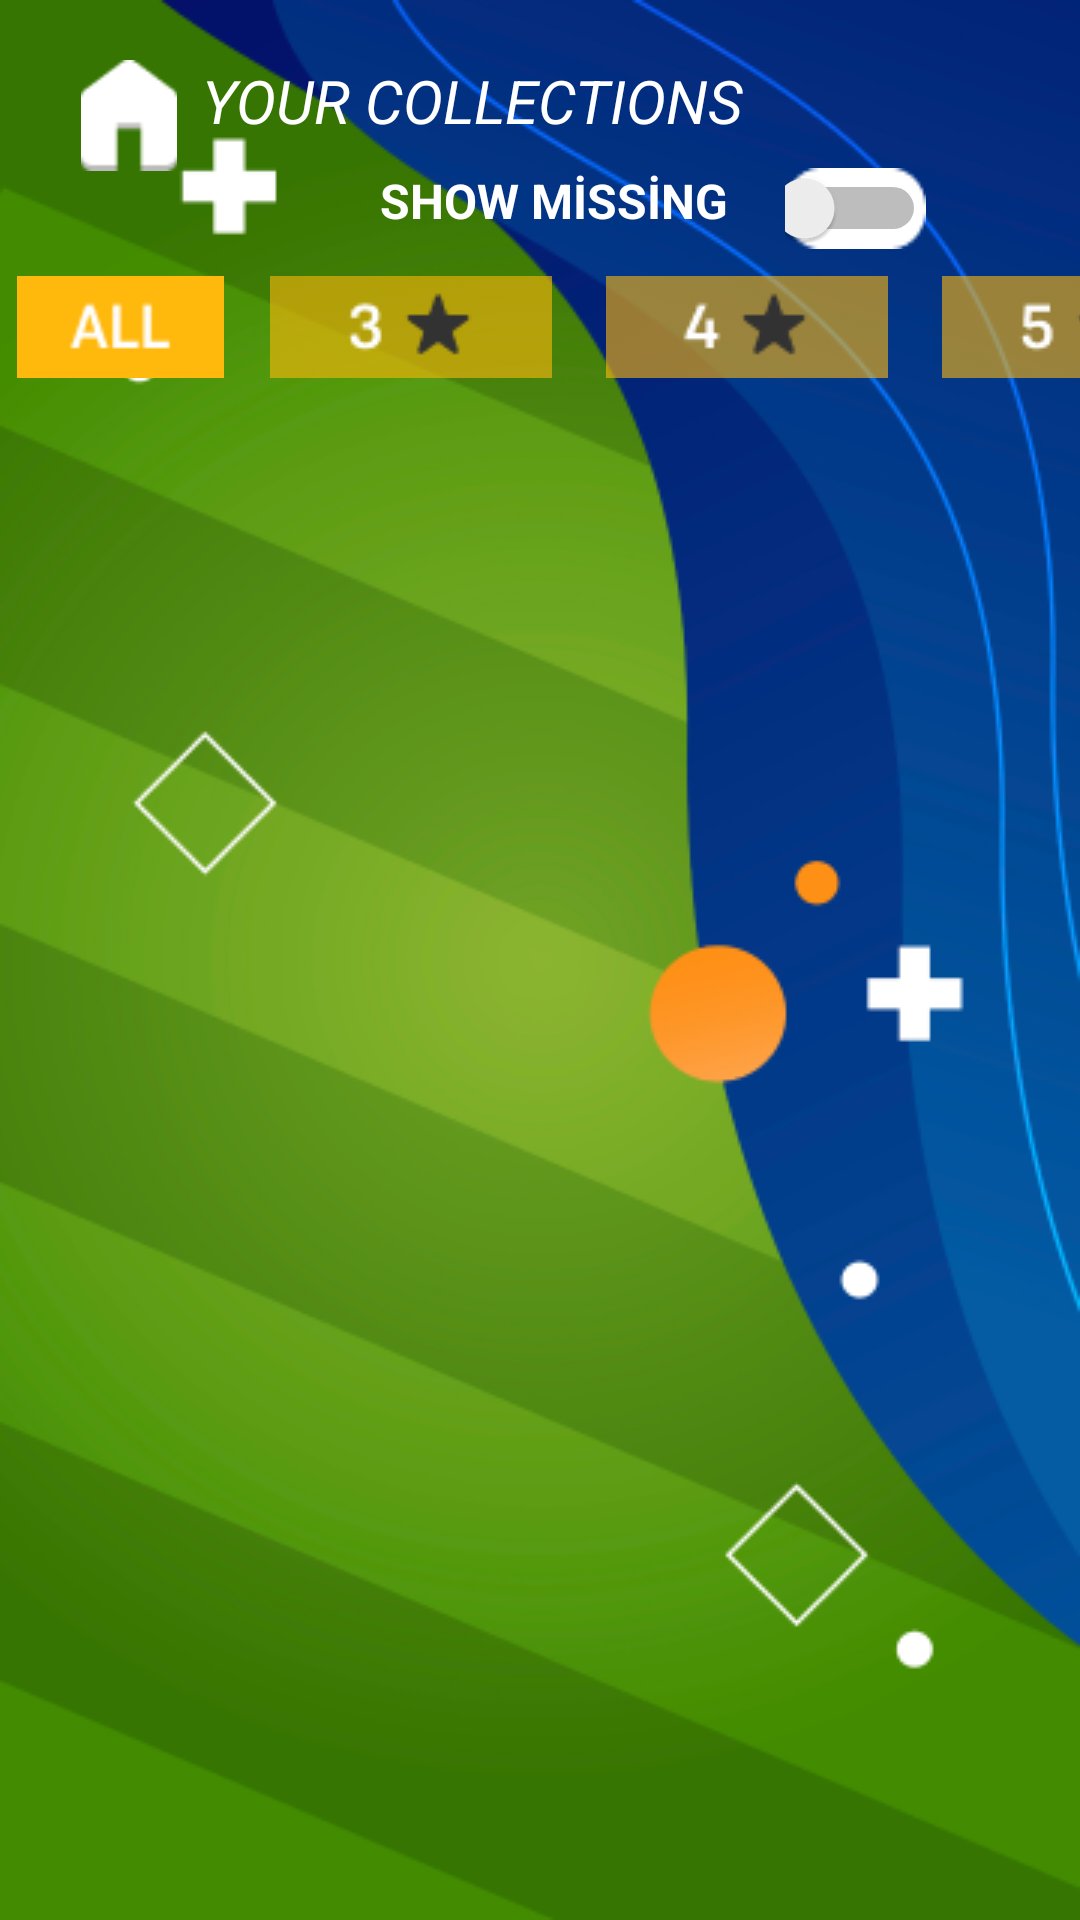

Named icons in this screenshot (1080 x 1920) and their centers, [x,y]:
home: [129,115]
